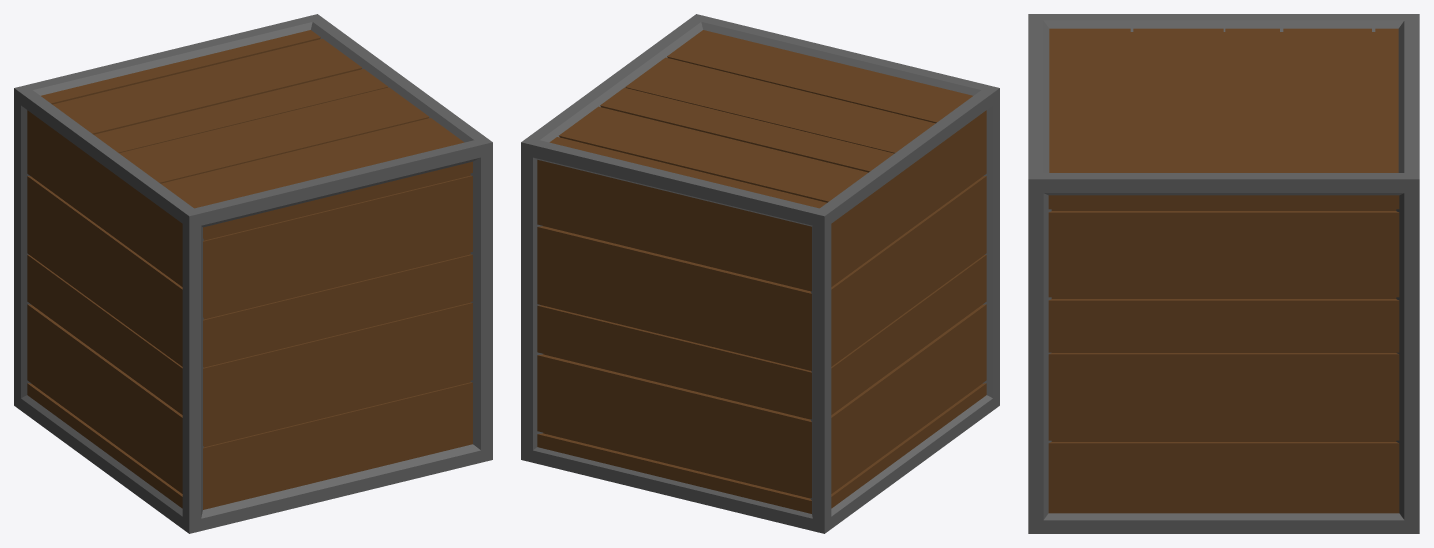
3 renders of one model, left to right at view 1: azimuth 30°, elevation 25°; view 2: azimuth 150°, elevation 25°; view 3: azimuth 270°, elevation 25°, orthographic. The views are drawn at different scales.
Parts seen in each view (by area): view 1: casse; view 2: casse; view 3: casse.
Part boxes in pixels (left/top/right/bottom): casse: left=14, top=14, right=492, bottom=533; casse: left=521, top=14, right=999, bottom=533; casse: left=1028, top=14, right=1419, bottom=533.
Bounding box in the file's own units: 44.92 × 44.92 × 44.92.
